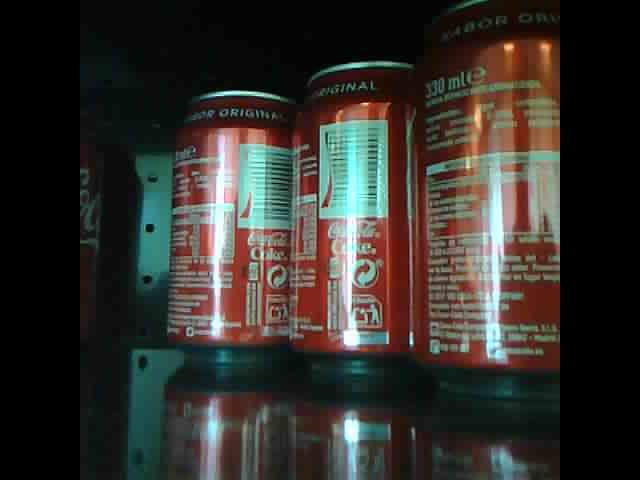coca cola: (406, 1, 559, 392), (294, 57, 409, 372), (165, 87, 292, 365)
